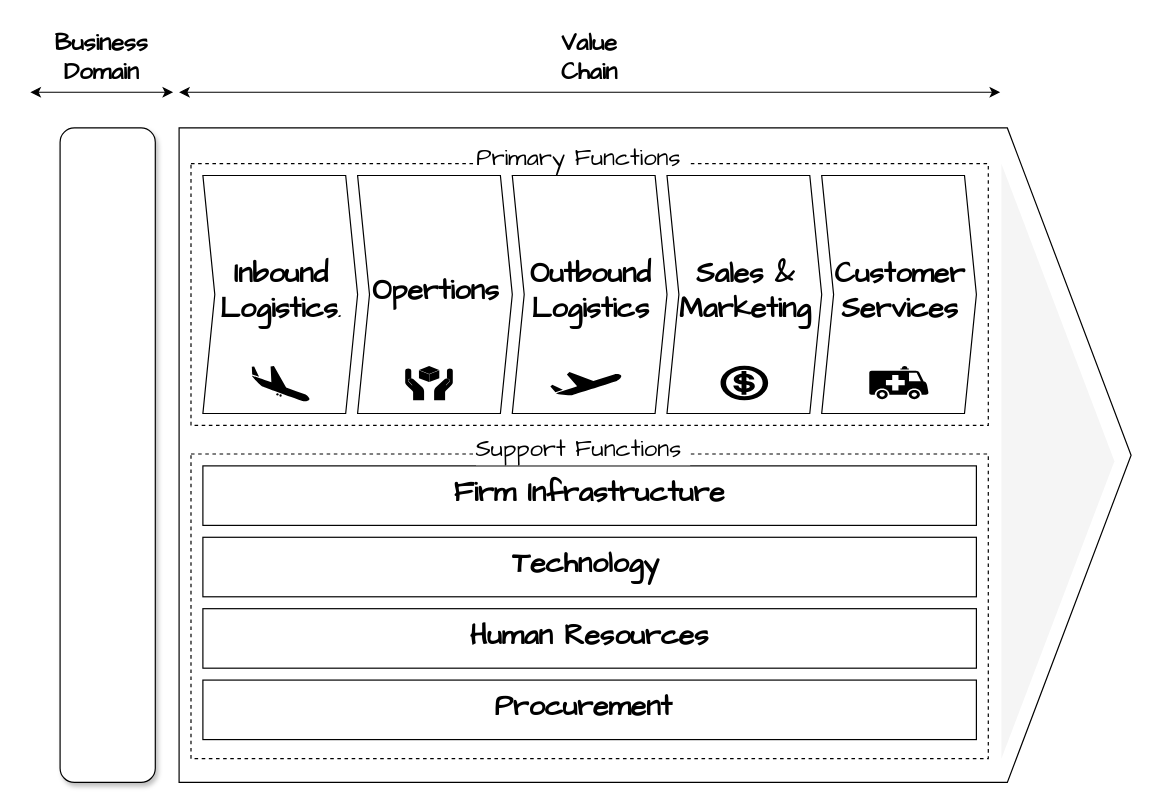
Image size: 1152x812. Some labels were removed from this diagram. The shapes that lost their labels are listed below. From the top down, each one's centre as x and y in pixels, then its label:
pixel 108 456: Domain A
pixel 1057 460: Value for customers
